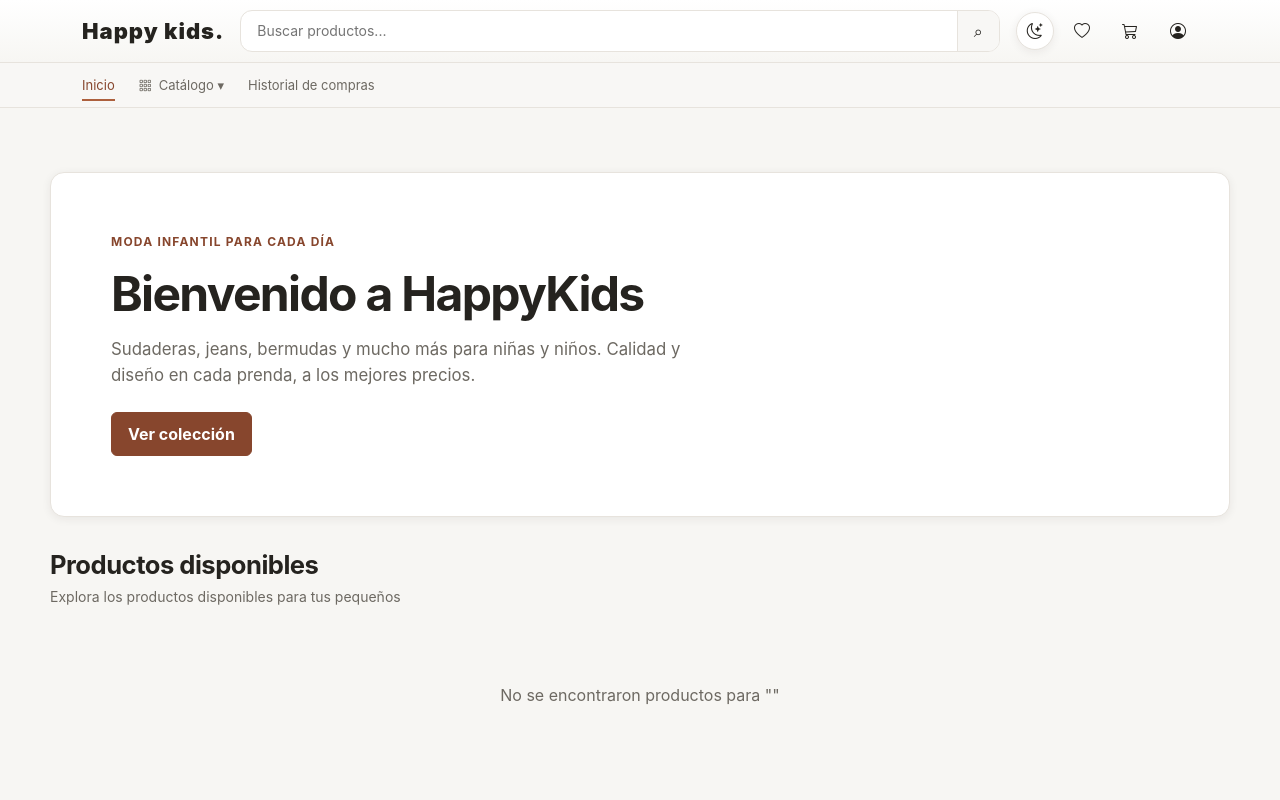
Test: Pruebas de caja negra - categorías › abre el catálogo al seleccionar una categoría
Click the button with class "catalogo-nav-link". click: click(182, 85)
box: [139,69,224,101]
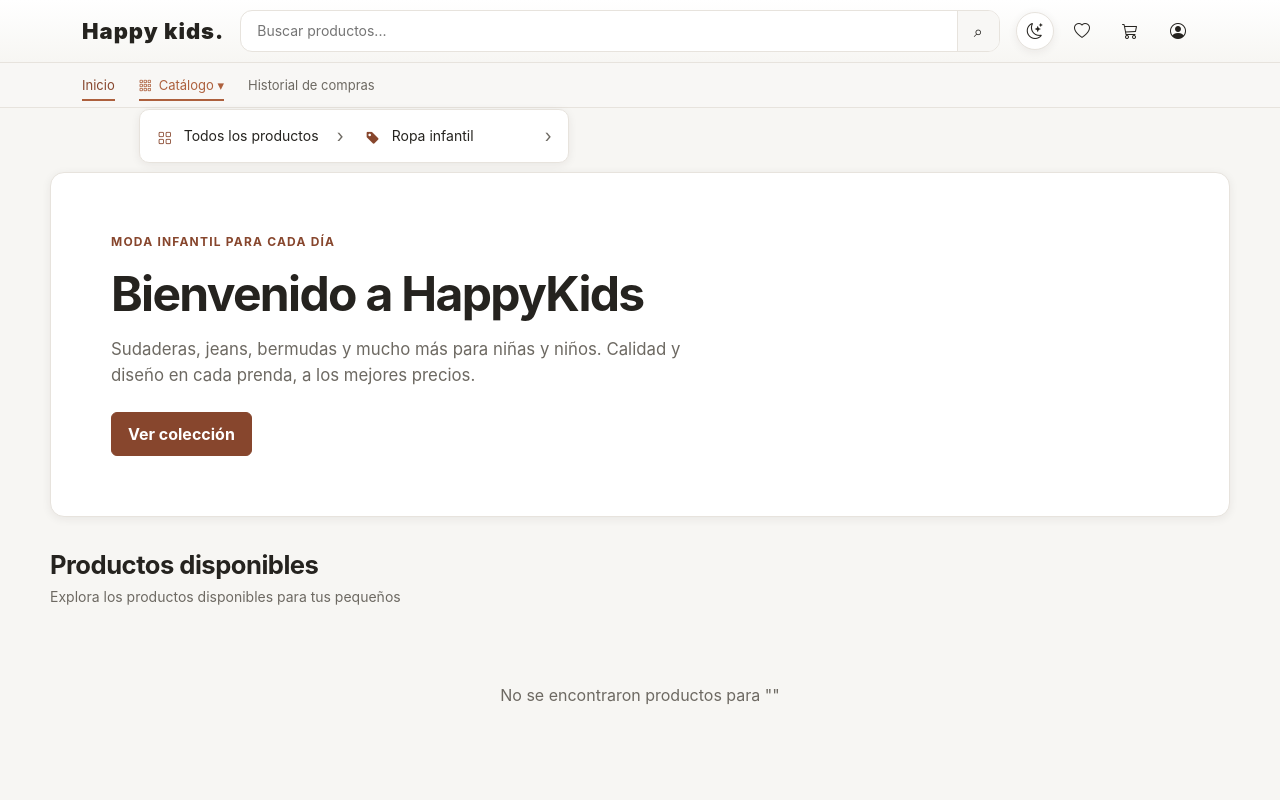
Click the link "Ropa infantil ›". click: click(459, 137)
box: [366,125,552,149]
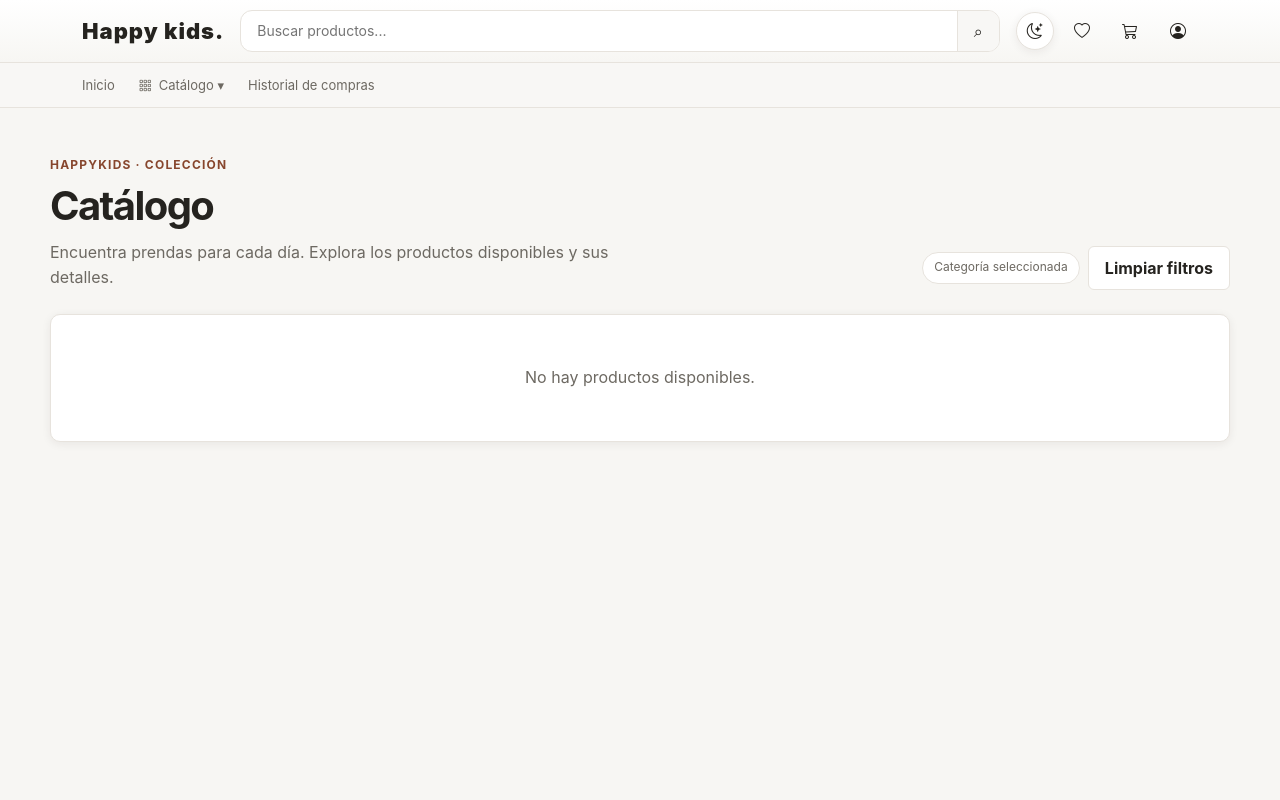
Check: the text "No hay productos disponibles." is shown, box [525,365,755,390]
